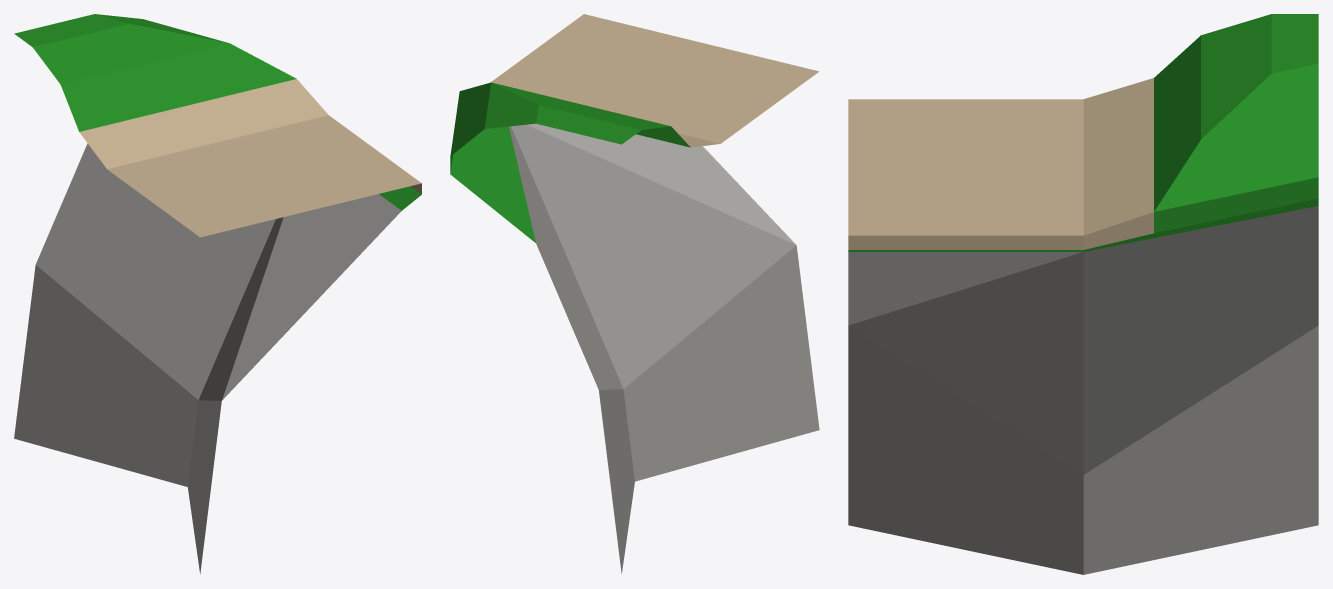
File: Cliff_Terrain_Side_Falloff_Edge.obj
3 views of the same model, side by side, from view 1: azimuth 30°, elevation 25°; view 2: azimuth 150°, elevation 25°; view 3: azimuth 270°, elevation 25° (orthographic). The views are drawn at different scales.
Parts seen in each view (by area): view 1: object1; view 2: object1; view 3: object1.
Boxes of the visible parts, box(x1,y1,x2,y2) form: object1: box(14, 14, 421, 574); object1: box(450, 14, 819, 573); object1: box(848, 14, 1318, 574).
Bounding box in the file's own units: 0.6875 × 1.2 × 1.
